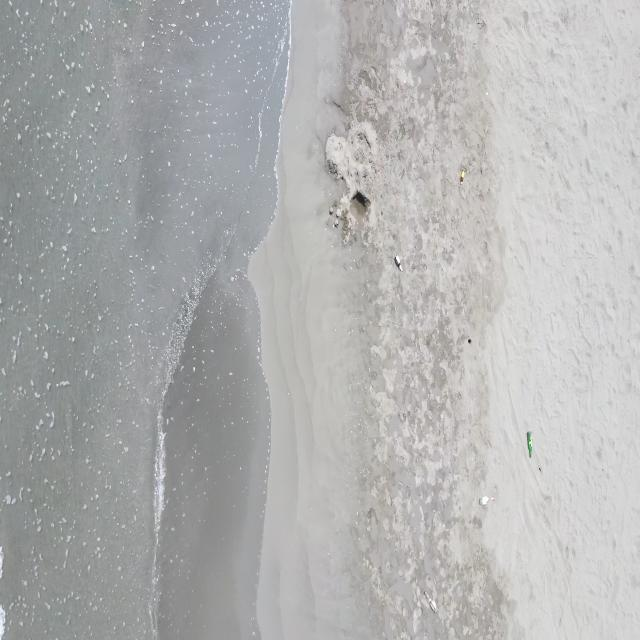glass: (424, 590, 438, 614), (526, 431, 533, 459), (479, 496, 496, 506), (394, 255, 403, 272), (460, 169, 465, 185)
